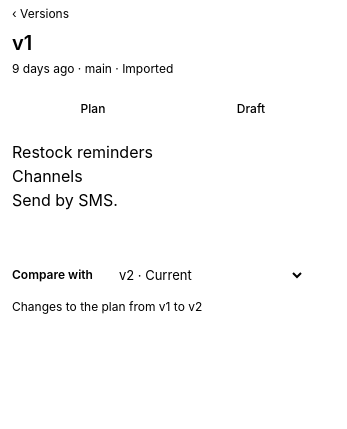
Test: a version › shows the version's plan, then its draft
Check: the element with test id "version-doc" shows "Send by SMS.", box [12,190,118,210]
Check: the heading "v1" is shown, box [12,28,32,58]
Click the tab "Draft".
click(251, 109)  # box [172,96,330,122]
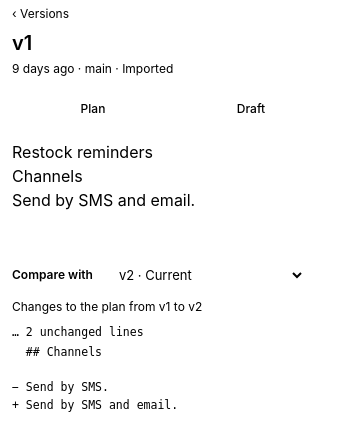
Check: the element with test id "version-doc" shows "Send by SMS and email.", box [12,190,195,210]
